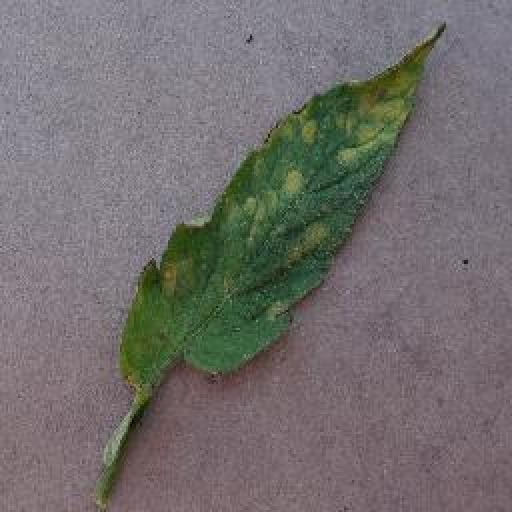Leaf Mold: (123, 23, 439, 393)
